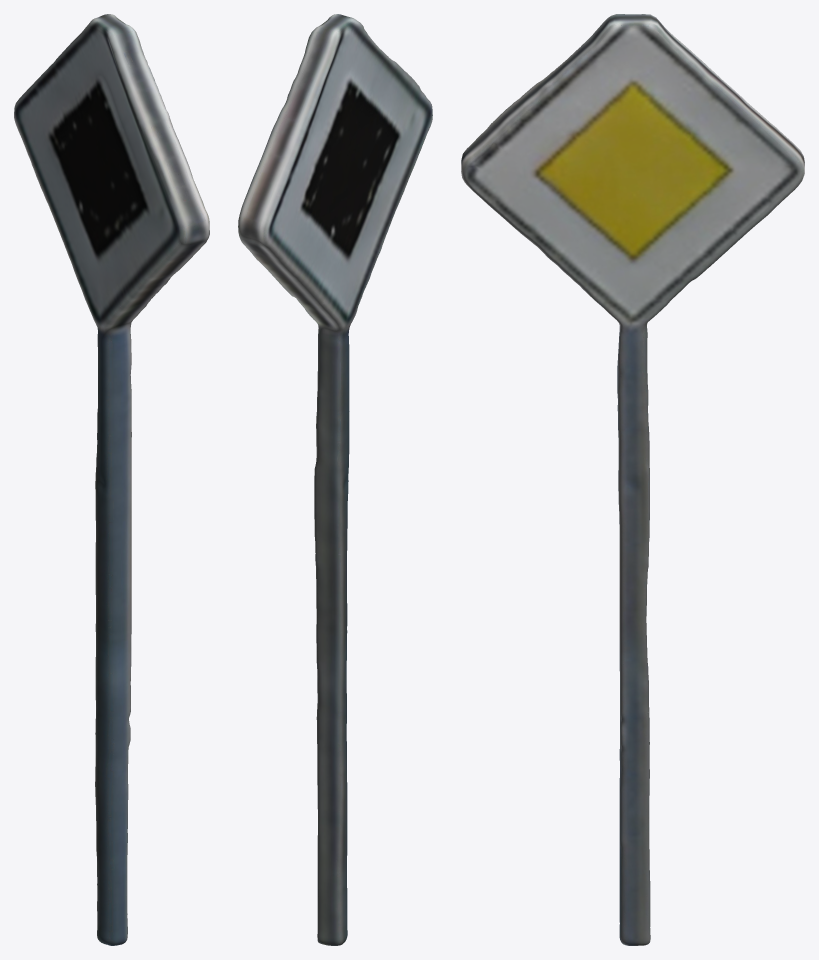
Rendered from tripo_convert_0f986638-ae5e-4c68-b5aa-5e4137037afa.fbx.
3 renders of one model, left to right at view 1: azimuth 30°, elevation 25°; view 2: azimuth 150°, elevation 25°; view 3: azimuth 270°, elevation 25°, orthographic.
Visible parts, largest first — view 1: tripo_node_0f986638-ae5e-4c68-b5aa-5e4137037afa; view 2: tripo_node_0f986638-ae5e-4c68-b5aa-5e4137037afa; view 3: tripo_node_0f986638-ae5e-4c68-b5aa-5e4137037afa.
Part boxes in pixels (box(x1,y1,x2,y2)): tripo_node_0f986638-ae5e-4c68-b5aa-5e4137037afa: box(14, 14, 209, 945); tripo_node_0f986638-ae5e-4c68-b5aa-5e4137037afa: box(238, 14, 432, 945); tripo_node_0f986638-ae5e-4c68-b5aa-5e4137037afa: box(461, 14, 804, 945).
Bounding box in the file's own units: 3.49 × 100 × 33.74.
Materials: 1 (1 with a texture image).
